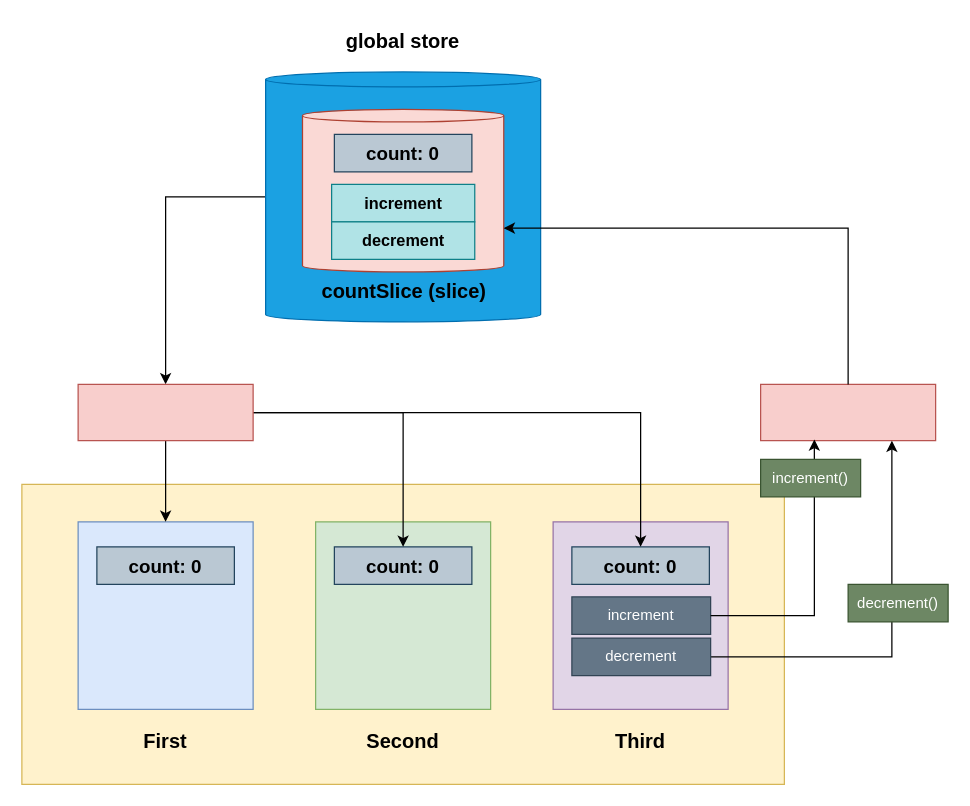
Some shapes in this 970 by 806 pixel diagram are drawn without their labels. The shapes that lost their labels are listed below. From the top down, each one's centre as x and y in pixels, then its label:
At (165,412): "useSelector()".
At (847,412): "useDispatch()".
